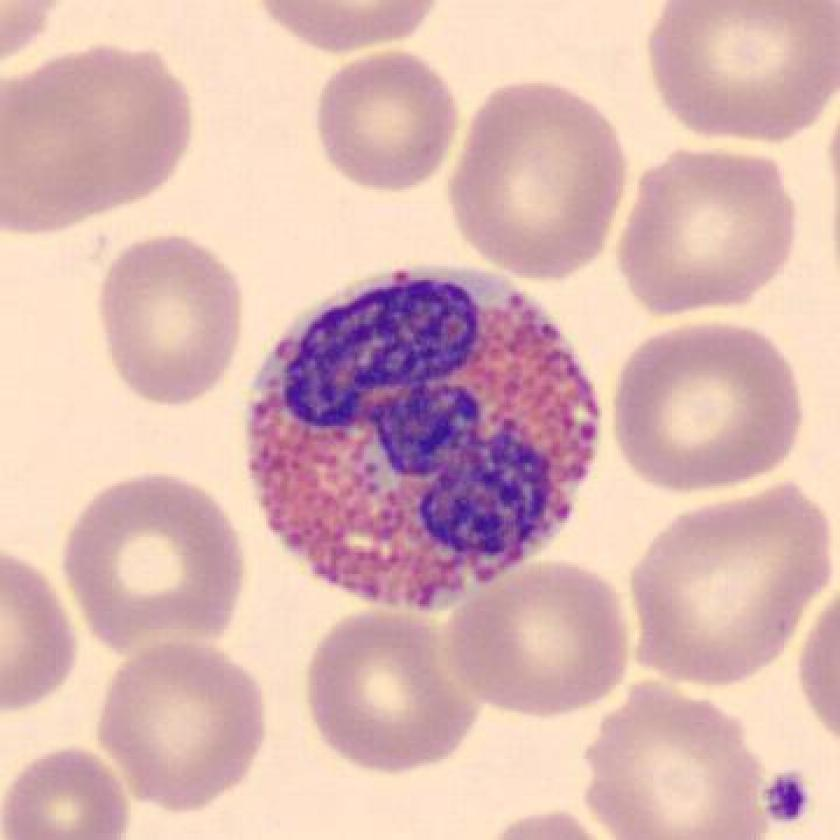eosinophil: (237, 253, 603, 626)
